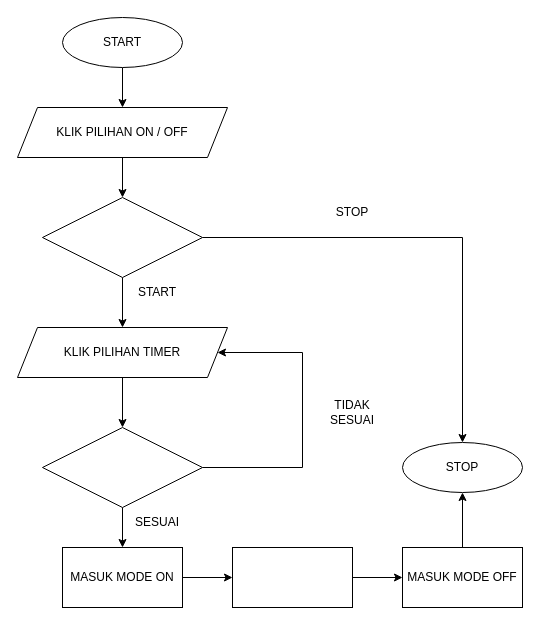
The diagram is 540 pixels wide and 625 high, and some of its shapes have lost their labels. Here are the shapes that lost their labels. From the top down, the box of each, then its label:
(42, 196, 202, 278): PEMERIKSAAN PILIHAN
(42, 426, 202, 508): PEMERIKSAAN TIMER
(232, 546, 352, 608): TIMER BERJALAN HINGGA BERHENTI
